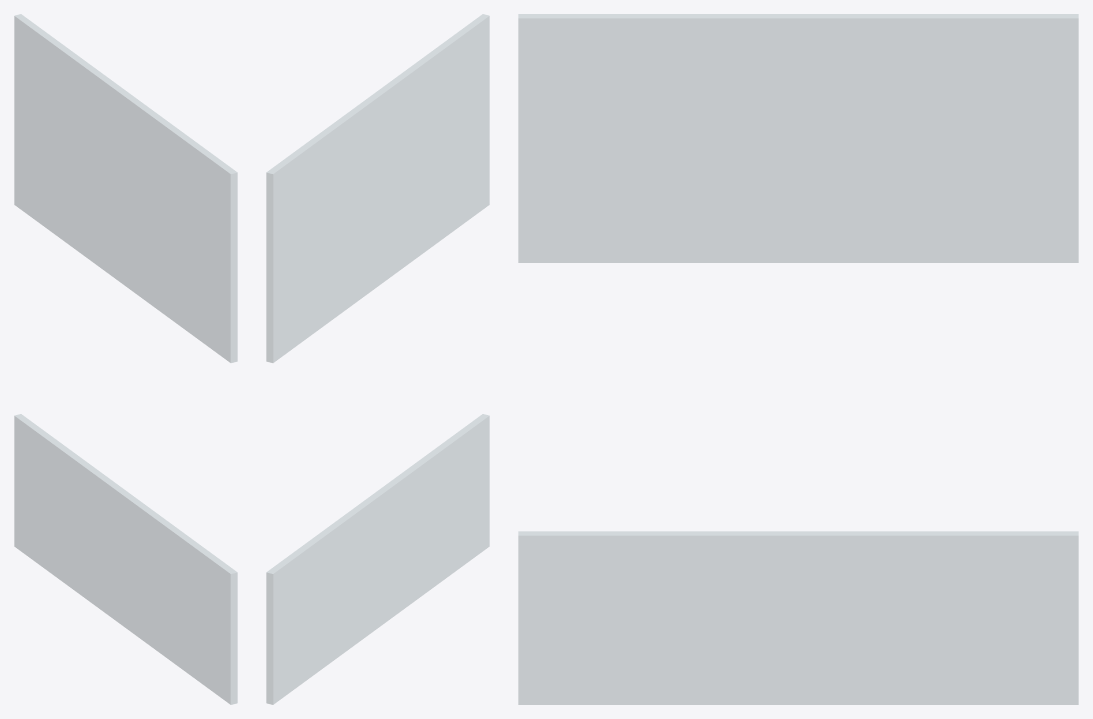
Rendered from double_decker_rear_window.glb.
3 views of the same model, side by side, from view 1: azimuth 30°, elevation 25°; view 2: azimuth 150°, elevation 25°; view 3: azimuth 270°, elevation 25° (orthographic). The views are drawn at different scales.
Visible parts, largest first — view 1: body:compound; view 2: body:compound; view 3: body:compound.
Part boxes in pixels (x1,y1,x2,y2): body:compound: (14, 14, 237, 704); body:compound: (266, 14, 489, 704); body:compound: (518, 14, 1078, 704).
Size of the model in its own units: 0.0312 by 2.28 by 1.69.
